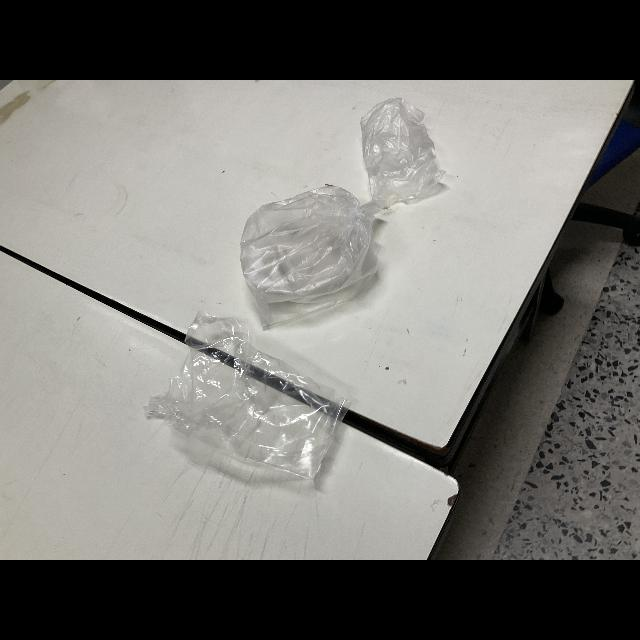plastic_bag: (152, 311, 354, 494), (224, 182, 386, 318)
scrap_plastic: (359, 92, 451, 216)
